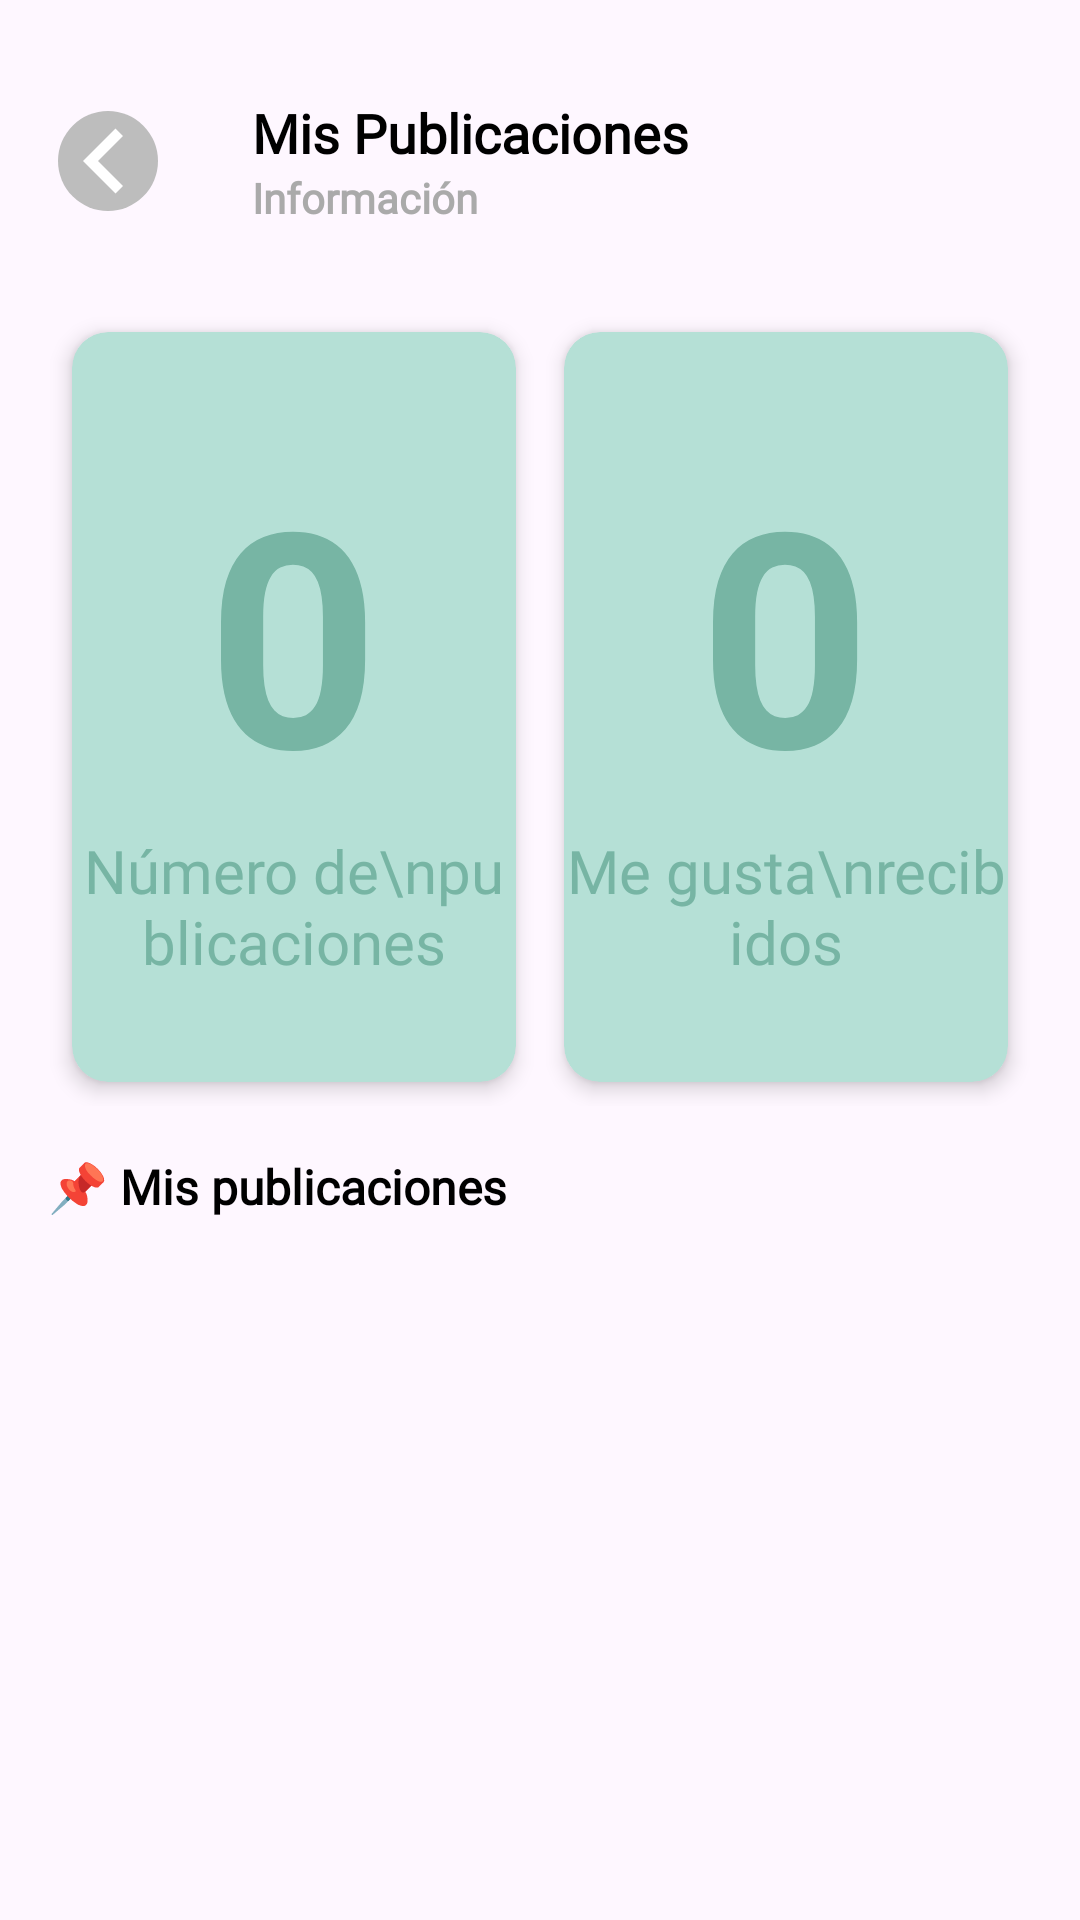

Icon click points for this 1080x1920 phone screenshot, format (x=x, y=y):
Regresar: (x=108, y=161)
